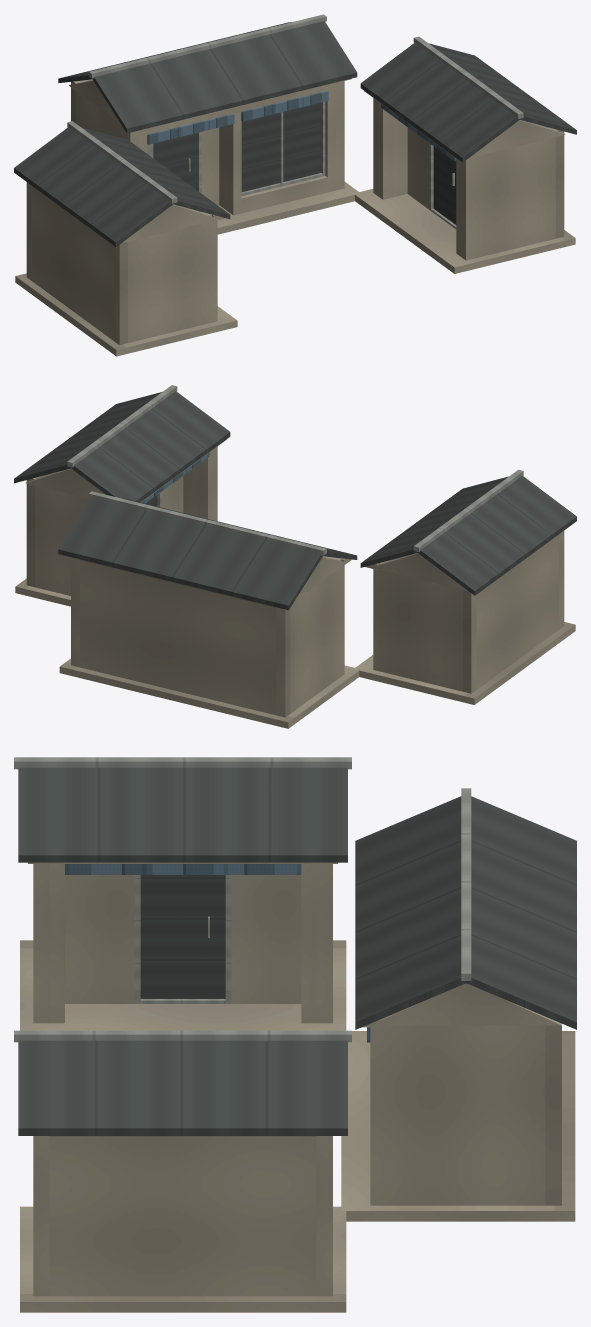
3 views of the same model, one above another, from view 1: azimuth 30°, elevation 25°; view 2: azimuth 150°, elevation 25°; view 3: azimuth 270°, elevation 25° (orthographic). The views are drawn at different scales.
Visible parts, largest first — view 1: luxembourg; view 2: luxembourg; view 3: luxembourg.
Part boxes in pixels (box(x1,y1,x2,y2)): luxembourg: box(14, 14, 576, 356); luxembourg: box(14, 385, 576, 728); luxembourg: box(14, 757, 576, 1312).
Bounding box in the file's own units: 8.6 × 2.77 × 5.63.
Materials: 1 (1 with a texture image).
